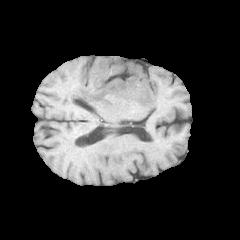glioma: (59, 61, 160, 111)
